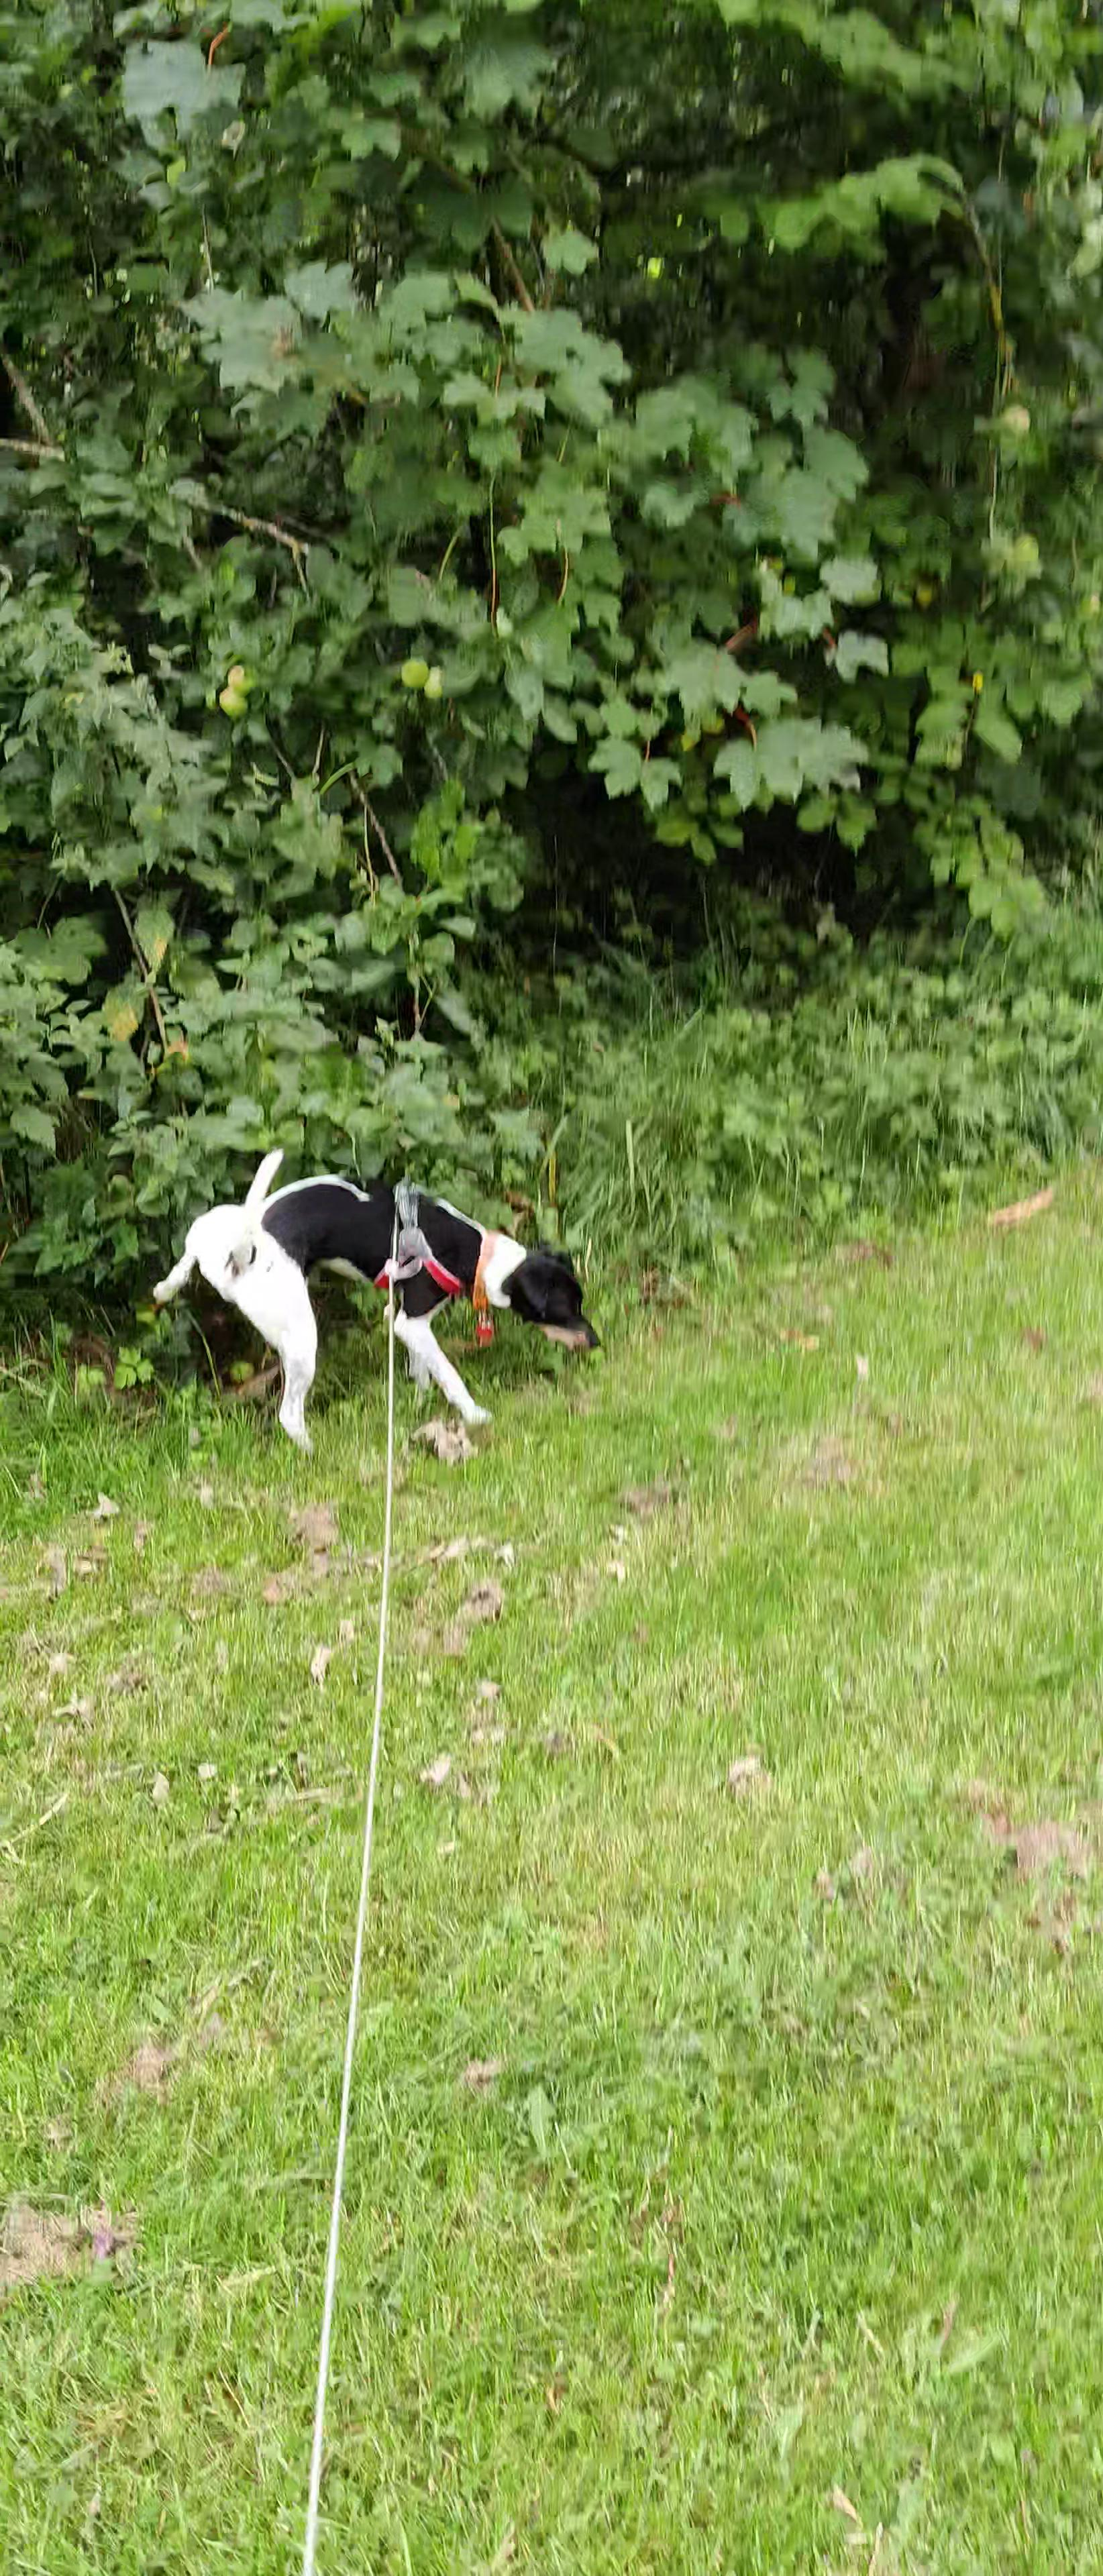Dog: (135, 1142, 610, 1462)
